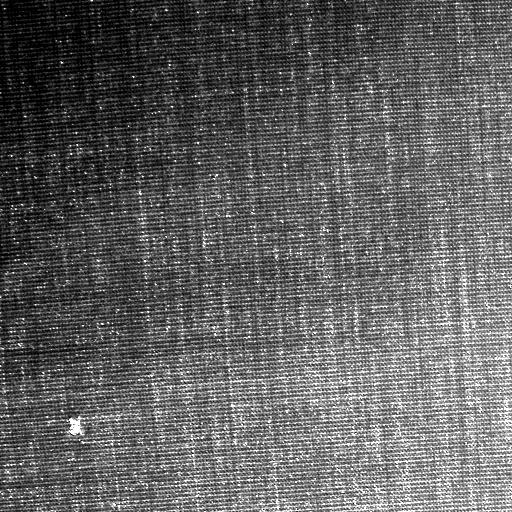fabric_hole: (59, 410, 93, 440)
